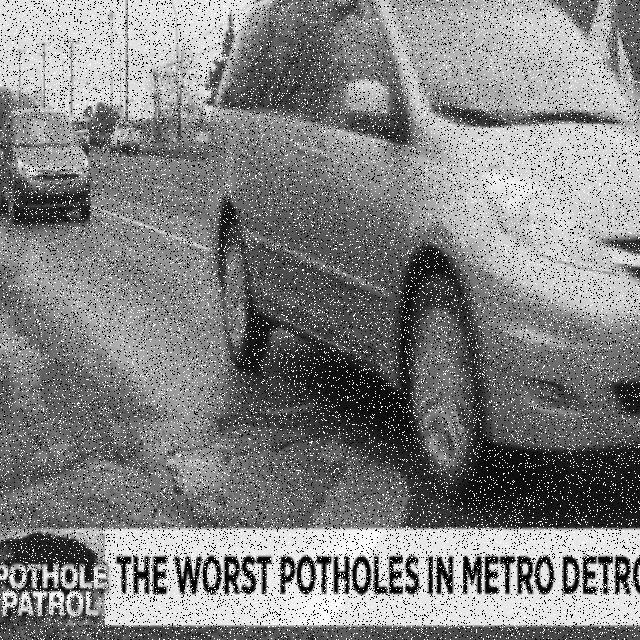pothole: (124, 409, 385, 522)
